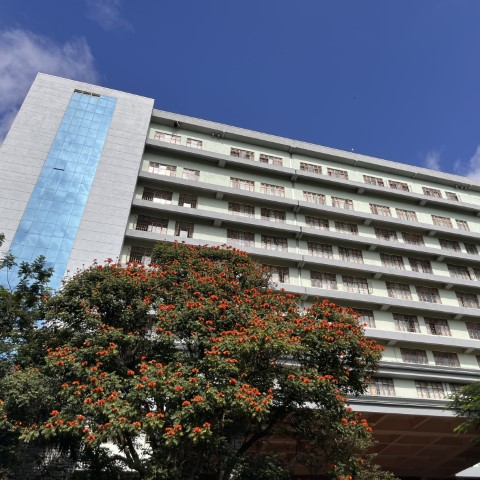Central Block: (8, 56, 480, 406)
